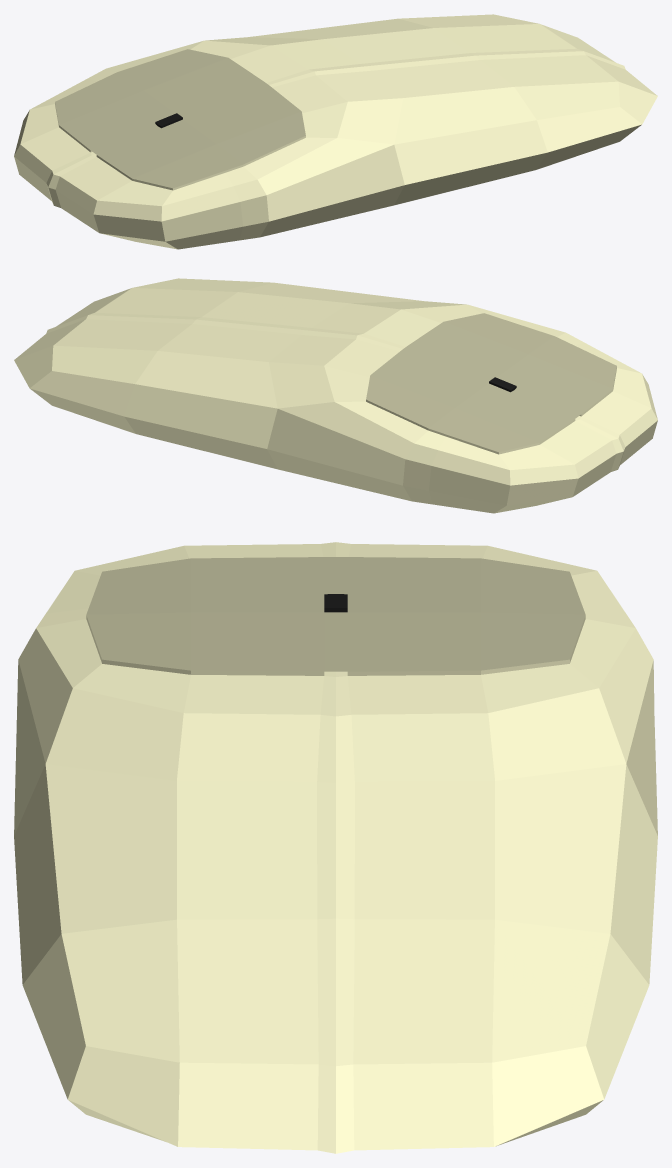
The model's file is Mouse.fbx.
3 views of the same model, one above another, from view 1: azimuth 30°, elevation 25°; view 2: azimuth 150°, elevation 25°; view 3: azimuth 270°, elevation 25° (orthographic). The views are drawn at different scales.
Visible parts, largest first — view 1: Cube; view 2: Cube; view 3: Cube.
Part boxes in pixels (<box>): Cube: <box>14,14,657,249</box>; Cube: <box>14,278,657,513</box>; Cube: <box>14,542,657,1153</box>.
Size of the model in its own units: 217 by 35.51 by 106.
